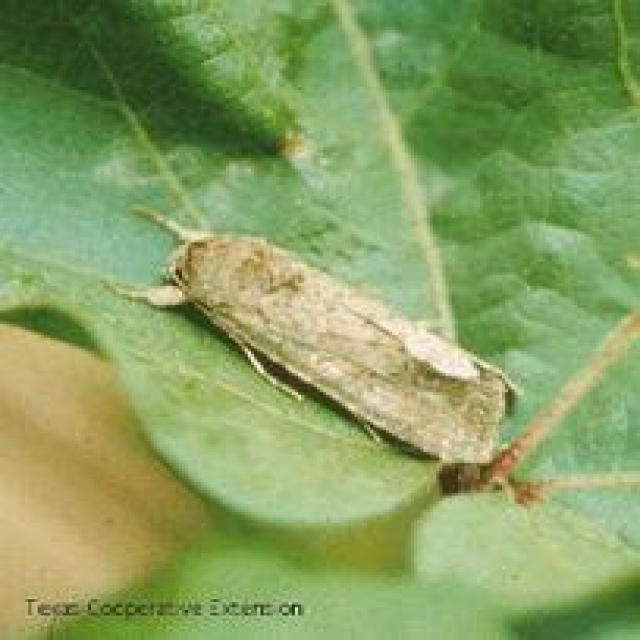BeetArmyWorm-Adult-: (80, 195, 528, 472)
